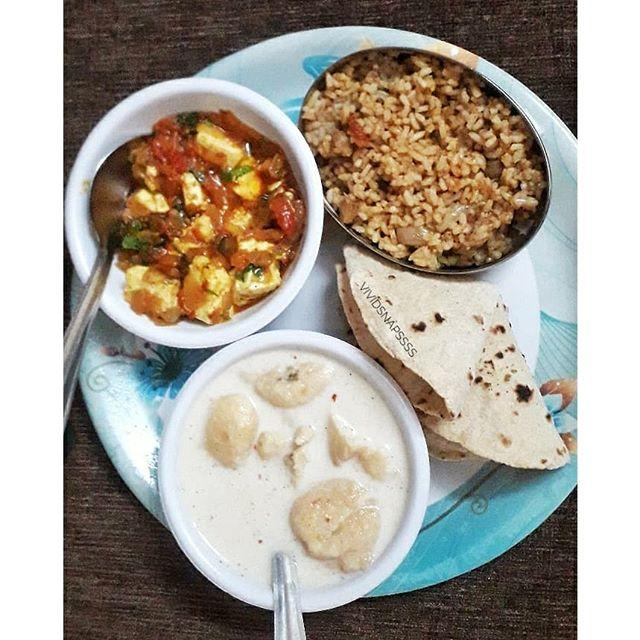Roti: (338, 252, 570, 470)
